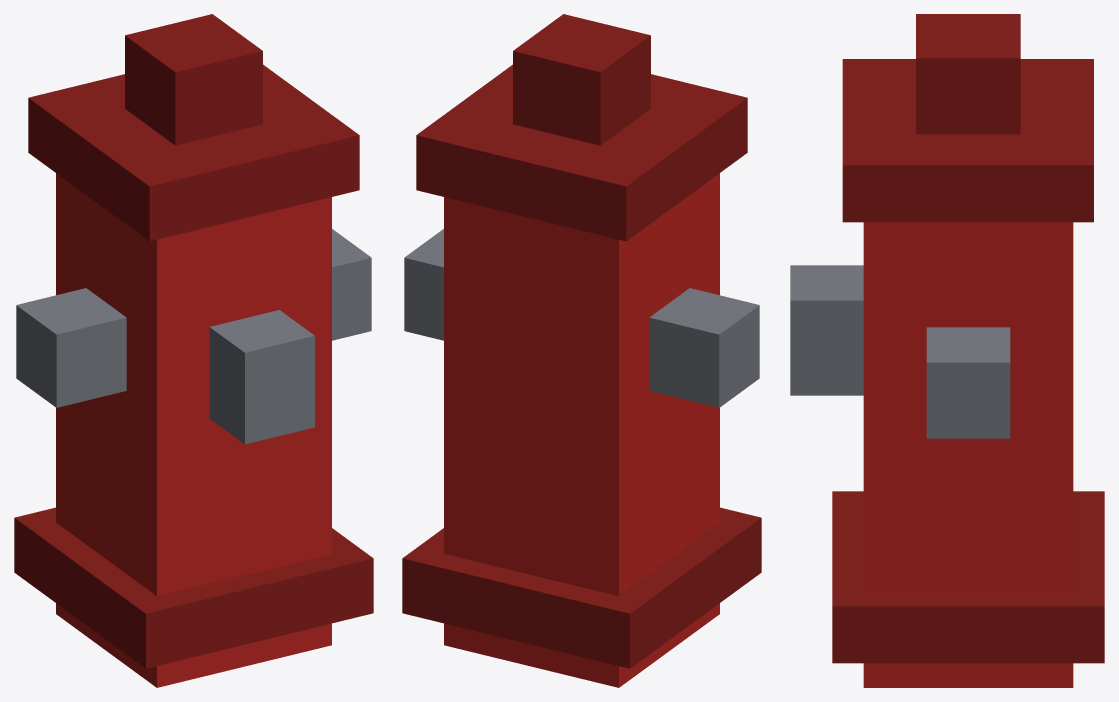
The model's file is mod-hidrante.gltf.
The picture shows the model from 3 angles, left to right: view 1: azimuth 30°, elevation 25°; view 2: azimuth 150°, elevation 25°; view 3: azimuth 270°, elevation 25°; orthographic projection. The views are drawn at different scales.
Visible parts, largest first — view 1: mod-hidrante; view 2: mod-hidrante; view 3: mod-hidrante.
Part boxes in pixels (x1,y1,x2,y2): mod-hidrante: (14,14,373,687); mod-hidrante: (402,14,761,687); mod-hidrante: (790,14,1104,687).
Bounding box in the file's own units: 0.36 × 0.64 × 0.3.
